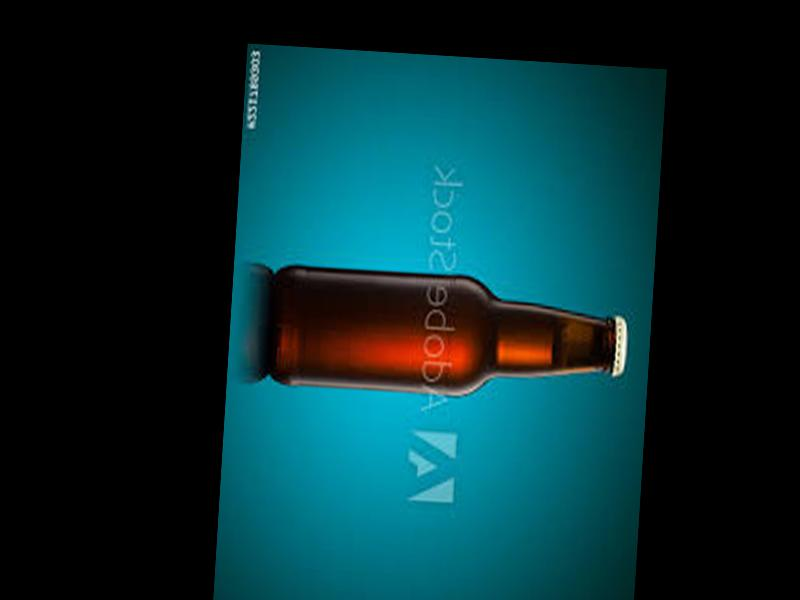Beer: (265, 261, 630, 405)
